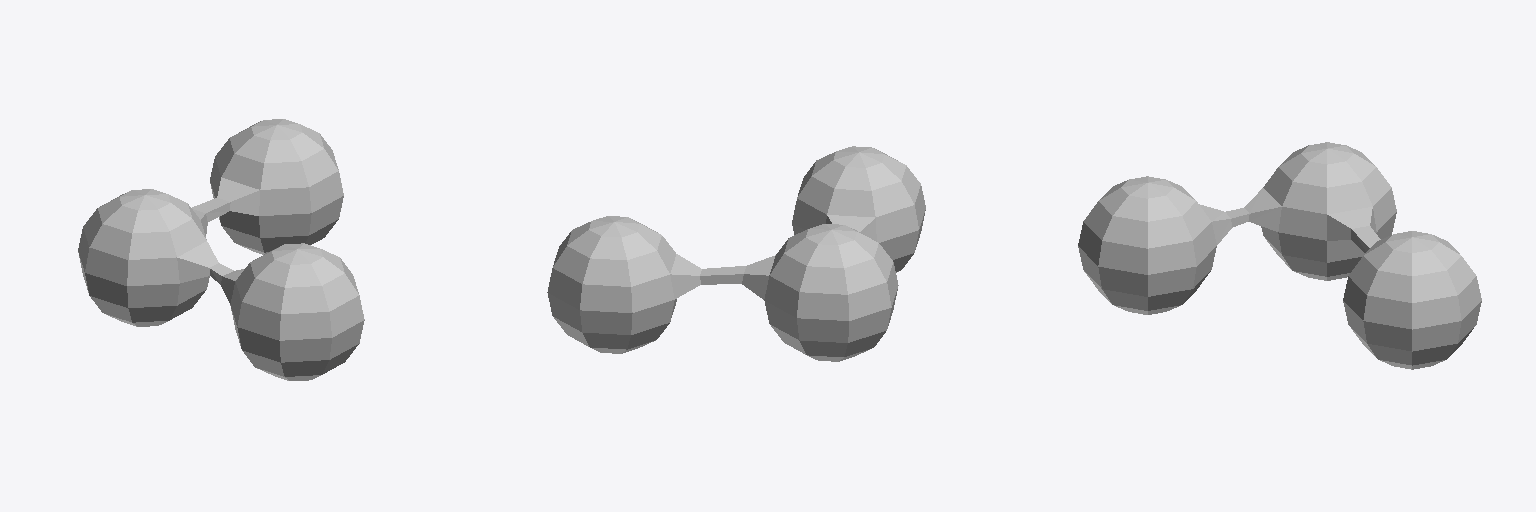
Rendered from Neutrophil (Inner).obj.
3 views of the same model, side by side, from view 1: azimuth 30°, elevation 25°; view 2: azimuth 150°, elevation 25°; view 3: azimuth 270°, elevation 25° (orthographic).
Visible parts, largest first — view 1: Neutrophil_(inner)_Sphere.003; view 2: Neutrophil_(inner)_Sphere.003; view 3: Neutrophil_(inner)_Sphere.003.
Part boxes in pixels (bbox=[...]): Neutrophil_(inner)_Sphere.003: bbox=[78, 119, 364, 380]; Neutrophil_(inner)_Sphere.003: bbox=[547, 146, 925, 361]; Neutrophil_(inner)_Sphere.003: bbox=[1078, 142, 1481, 369].
Size of the model in its own units: 4.9 by 2.06 by 5.81.